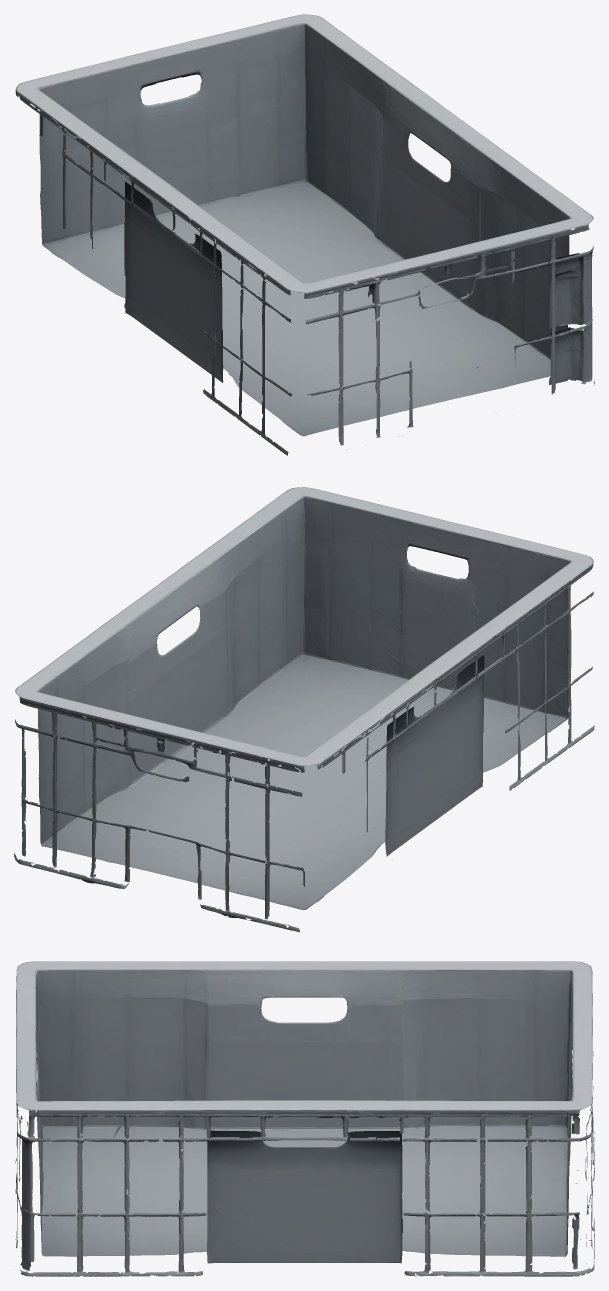
The picture shows the model from 3 angles, top to bottom: view 1: azimuth 30°, elevation 25°; view 2: azimuth 150°, elevation 25°; view 3: azimuth 270°, elevation 25°; orthographic projection.
Parts seen in each view (by area): view 1: geometry_0; view 2: geometry_0; view 3: geometry_0.
Part boxes in pixels (x1,y1,x2,y2): geometry_0: (15,14,594,455); geometry_0: (14,487,594,932); geometry_0: (15,961,594,1276).
Bounding box in the file's own units: 0.608 × 0.3189 × 0.9928.
Materials: 1 (1 with a texture image).
